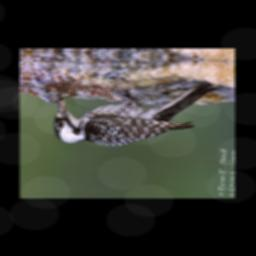Woodpecker: (52, 74, 217, 153)
